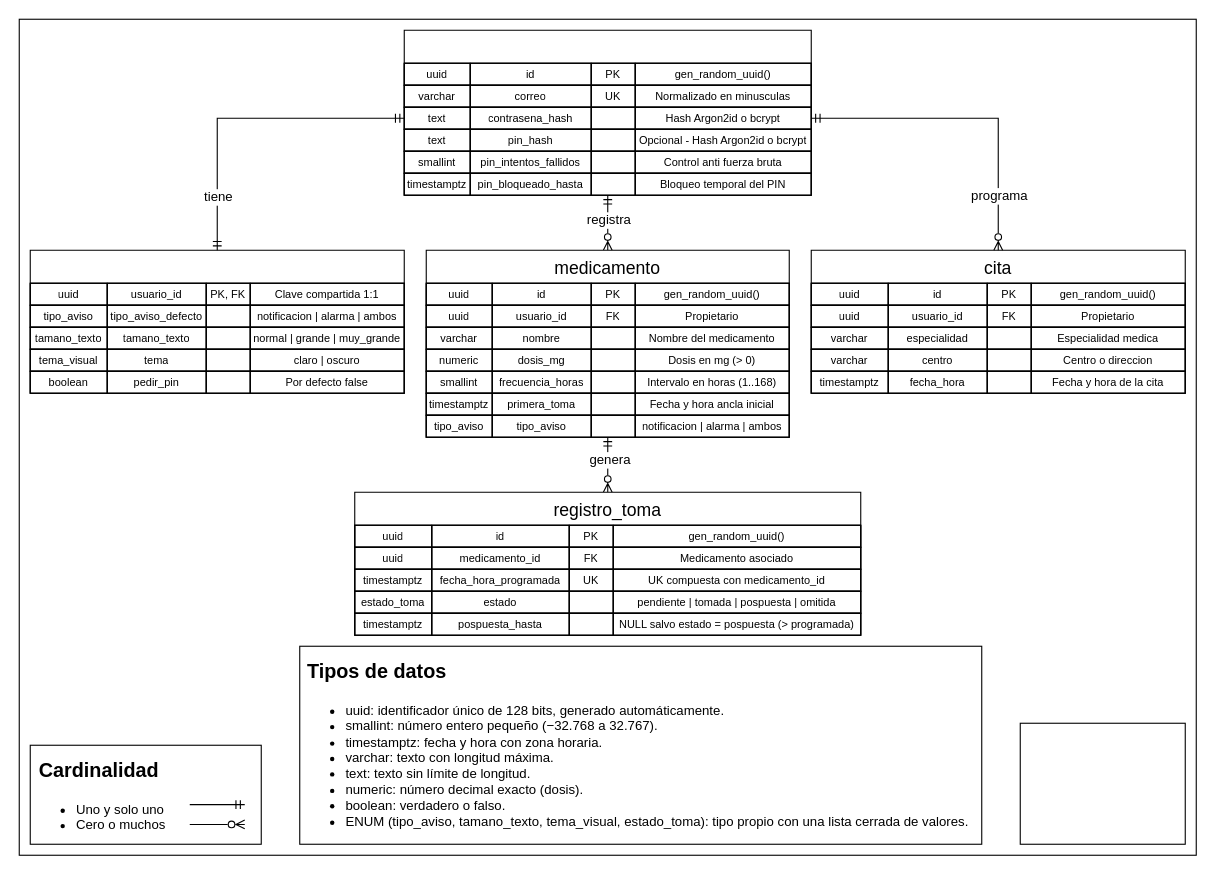
The diagram is 1216 pixels wide and 875 high, and some of its shapes have lost their labels. The shapes that lost their labels are listed below. From the top down, each one's box as (x1, y1, x2, y2) in pixels, then its label:
(403, 29, 811, 195): usuario
(29, 249, 404, 393): ajustes_usuario
(1019, 722, 1185, 844): Siglas PK: clave primaria FK: clave foránea UK: valor único
